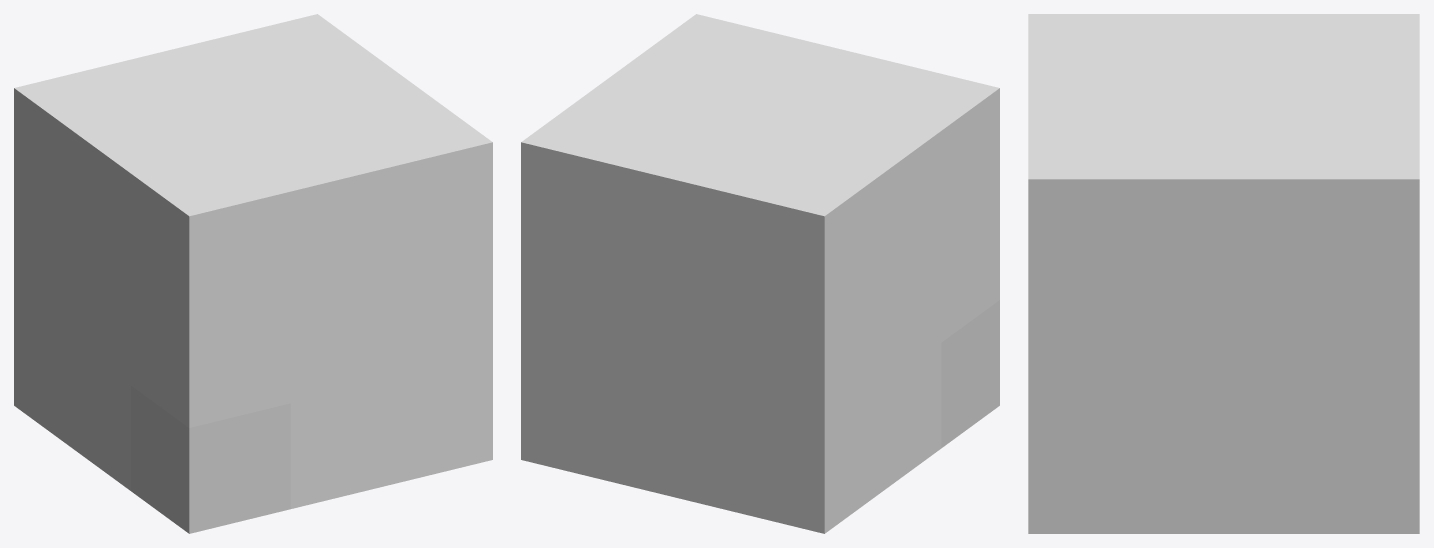
The model's file is PlayerSegs.fbx.
3 renders of one model, left to right at view 1: azimuth 30°, elevation 25°; view 2: azimuth 150°, elevation 25°; view 3: azimuth 270°, elevation 25°, orthographic. The views are drawn at different scales.
Visible parts, largest first — view 1: Player.019, Player.001, Player.010, Player.021, Player.020, Player.022, Player.025, Player.003, Player.012, Player.002, Player.011, Player.004 (+7 smaller); view 2: Player.025, Player.007, Player.016, Player.027, Player.026, Player.019, Player.022, Player.009, Player.018, Player.008, Player.017, Player.001 (+7 smaller); view 3: Player.024, Player.021, Player.027, Player.006, Player.015, Player.003, Player.009, Player.012, Player.018, Player.023, Player.020, Player.026 (+3 smaller).
Boxes of the visible parts, box(x1,y1,x2,y2) form: Player.019: box(131, 149, 290, 321); Player.001: box(131, 385, 290, 533); Player.010: box(131, 280, 290, 427); Player.021: box(333, 99, 492, 272); Player.020: box(232, 124, 391, 297); Player.022: box(72, 106, 231, 278); Player.025: box(14, 63, 173, 236); Player.003: box(391, 354, 492, 484); Player.012: box(391, 248, 492, 378); Player.002: box(290, 379, 391, 508); Player.011: box(290, 273, 391, 403); Player.004: box(72, 343, 130, 490); Player.025: box(723, 149, 882, 321); Player.007: box(723, 385, 882, 533); Player.016: box(723, 280, 882, 427); Player.027: box(521, 99, 680, 272); Player.026: box(622, 124, 781, 297); Player.019: box(840, 63, 999, 236); Player.022: box(782, 106, 941, 278); Player.009: box(521, 354, 622, 484); Player.018: box(521, 248, 622, 378); Player.008: box(622, 379, 723, 508); Player.017: box(622, 273, 723, 403); Player.001: box(941, 300, 999, 448); Player.024: box(1158, 124, 1289, 297); Player.021: box(1028, 124, 1158, 297); Player.027: box(1289, 124, 1419, 297); Player.006: box(1158, 415, 1289, 533); Player.015: box(1158, 297, 1289, 415); Player.003: box(1028, 415, 1158, 533); Player.009: box(1289, 415, 1419, 533); Player.012: box(1028, 297, 1158, 415); Player.018: box(1289, 297, 1419, 415); Player.023: box(1158, 69, 1289, 124); Player.020: box(1028, 69, 1158, 124); Player.026: box(1289, 69, 1419, 124).
Size of the model in its own units: 1 by 1 by 1.
